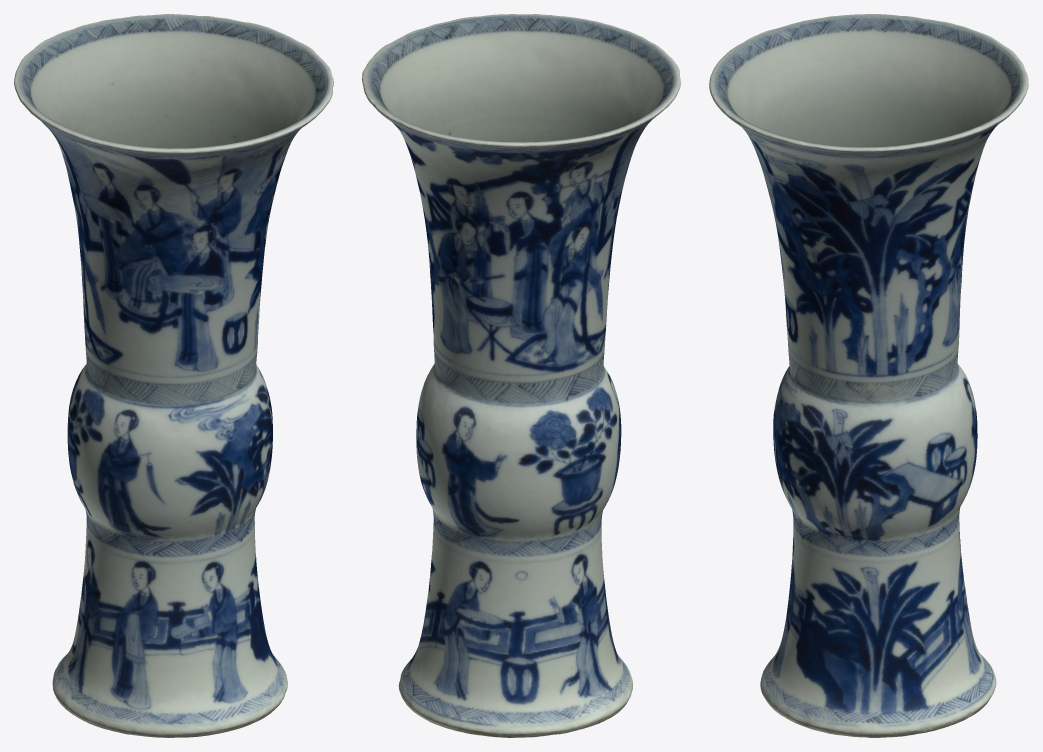
Rendered from Beaker-shaped-vase.glb.
3 renders of one model, left to right at view 1: azimuth 30°, elevation 25°; view 2: azimuth 150°, elevation 25°; view 3: azimuth 270°, elevation 25°, orthographic.
Bounding box in the file's own units: 0.203 × 0.4311 × 0.2038.
Materials: 1 (1 with a texture image).
